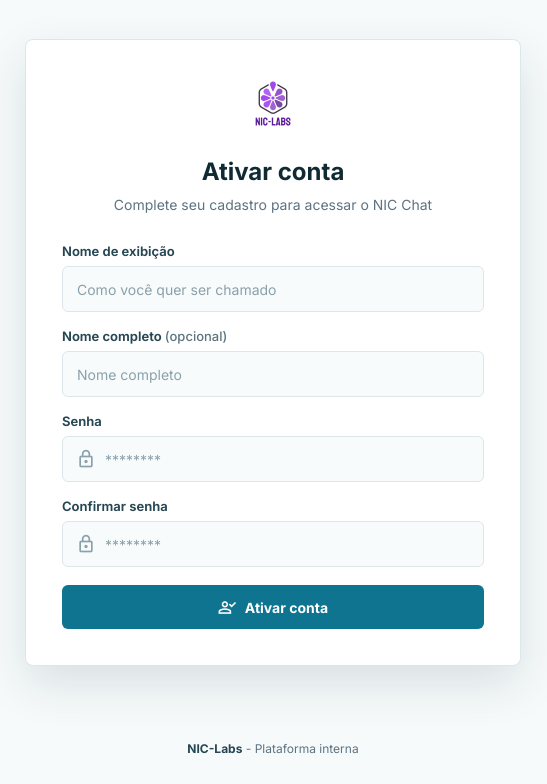
Test case: AcceptInvitePage › shows generic password policy error from backend on 400
The width and height of the screenshot is (547, 784).
Type "Alice" into the field labelled "Nome de exibição".
click(273, 289); type("Alice")  # box [62, 266, 484, 312]
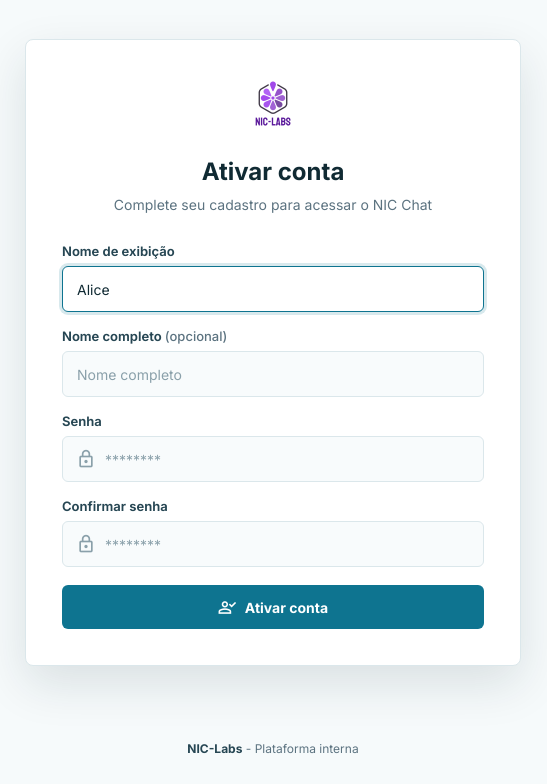
Type "short" into the password field labelled "Senha".
click(273, 459); type("short")  # box [62, 436, 484, 482]
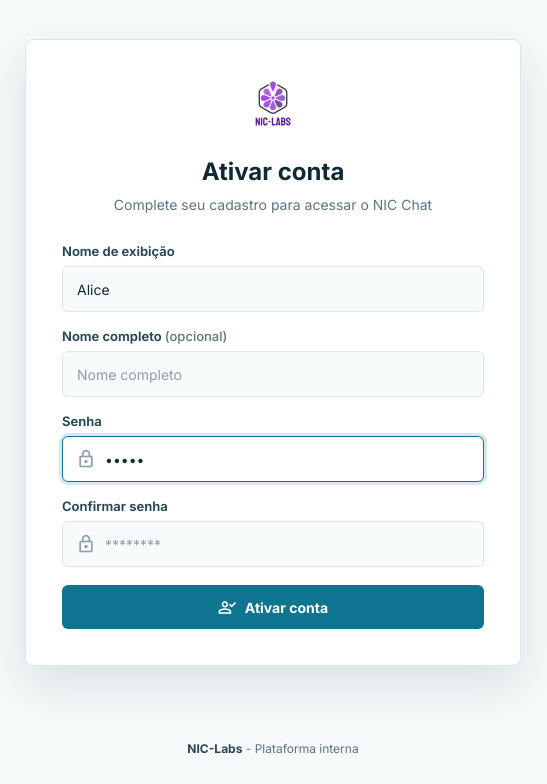
Type "short" into the password field labelled "Confirmar senha".
click(273, 544); type("short")  # box [62, 521, 484, 567]
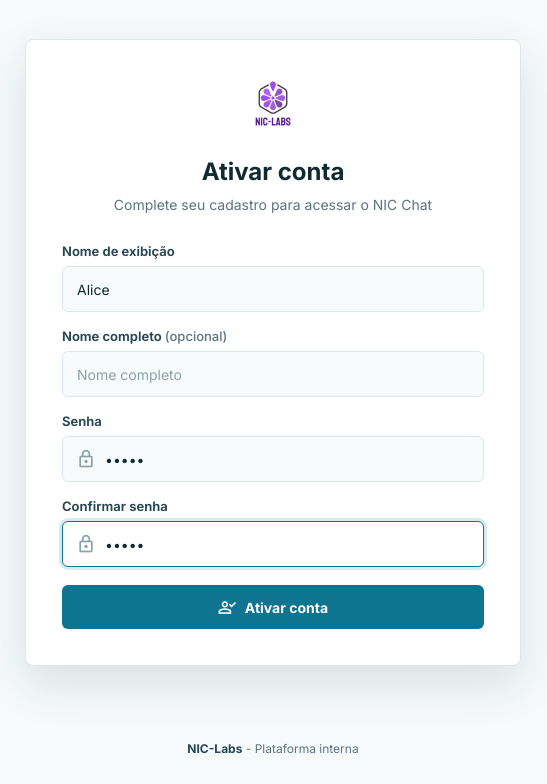
Click the button "Ativar conta".
click(273, 607)  # box [62, 585, 484, 629]
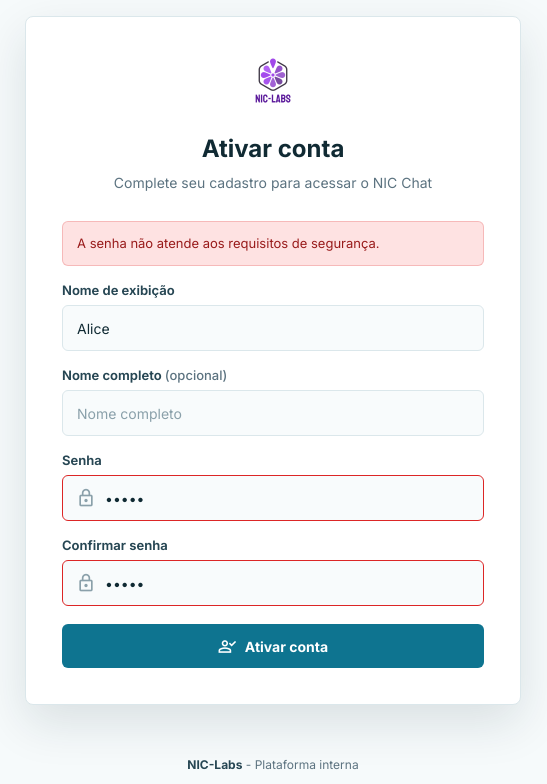
Expected: the message shows "requisitos de segurança", [77, 235, 380, 251]
